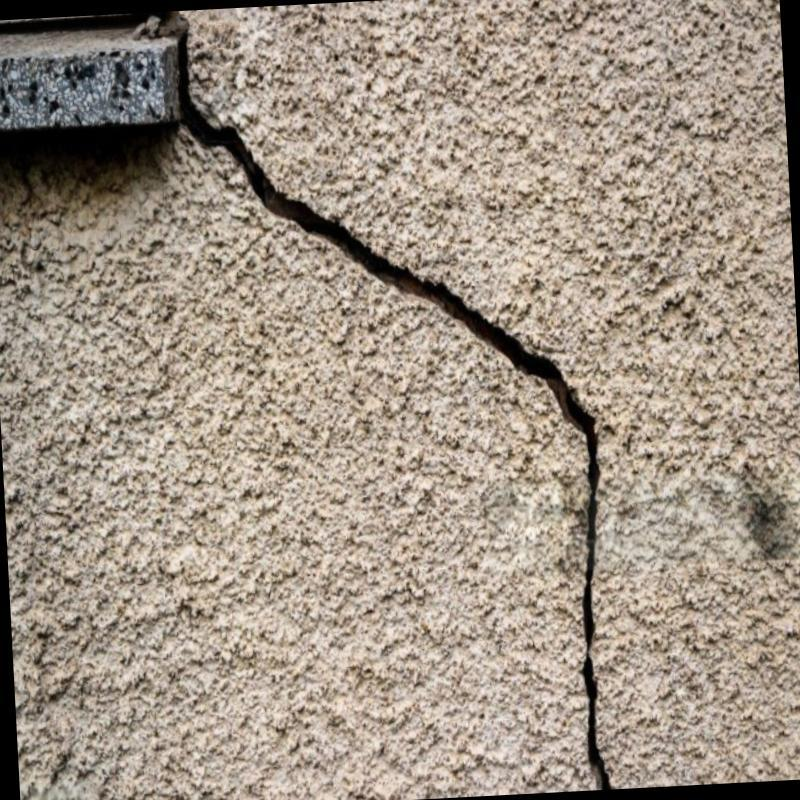pothole: (168, 25, 620, 791)
